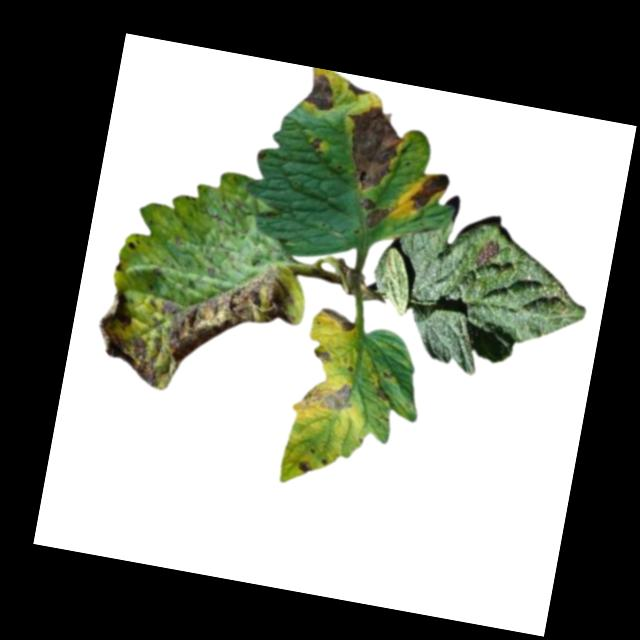Early_blight: (88, 233, 313, 414), (334, 98, 410, 197), (299, 374, 358, 415), (404, 168, 451, 215), (301, 70, 339, 113), (355, 196, 391, 230), (319, 304, 359, 332), (474, 234, 502, 268), (343, 79, 372, 97), (374, 383, 394, 404), (306, 134, 324, 155), (296, 456, 313, 475), (313, 346, 332, 362)
